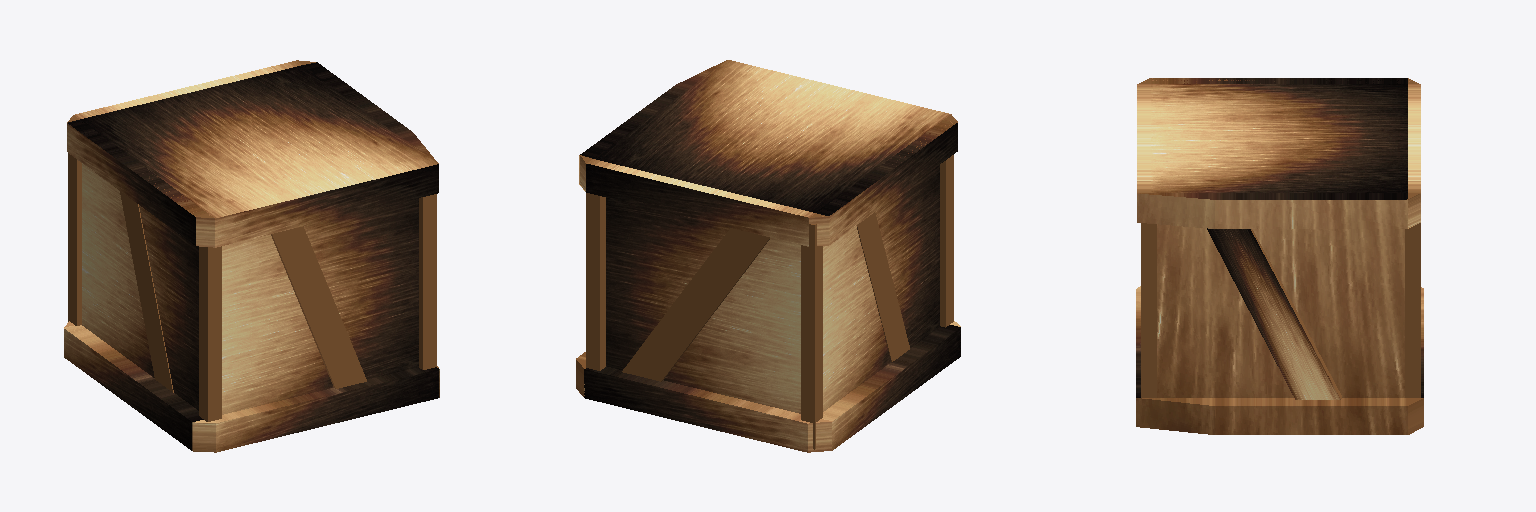
3 views of the same model, side by side, from view 1: azimuth 30°, elevation 25°; view 2: azimuth 150°, elevation 25°; view 3: azimuth 270°, elevation 25° (orthographic).
Parts seen in each view (by area): view 1: Cube; view 2: Cube; view 3: Cube.
Part boxes in pixels (bbox=[...]): Cube: bbox=[64, 60, 439, 452]; Cube: bbox=[576, 60, 960, 452]; Cube: bbox=[1136, 78, 1423, 434].
Bounding box in the file's own units: 2.3 × 2 × 2.24.
Materials: 1 (1 with a texture image).